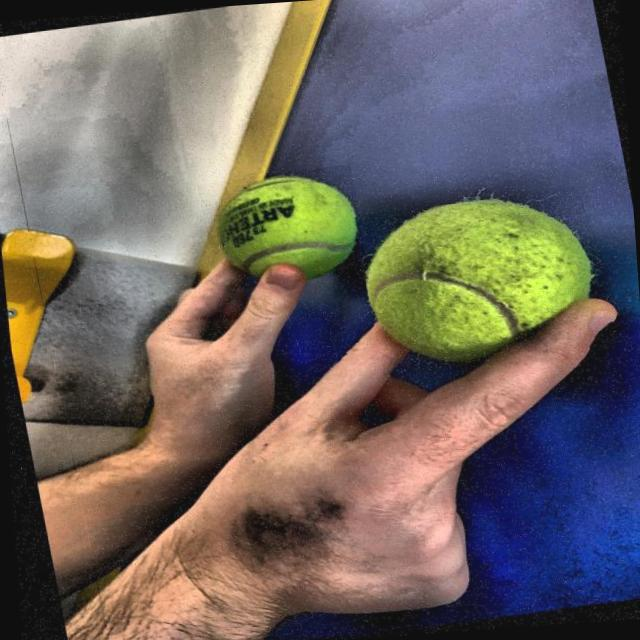Tennis Ball: (350, 186, 616, 379), (196, 162, 370, 292)
